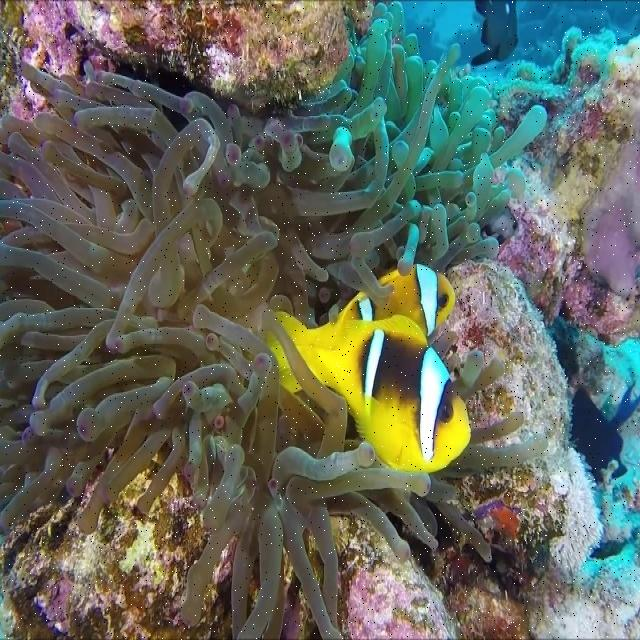fish: (268, 263, 471, 473), (569, 379, 639, 483), (471, 1, 518, 67)
